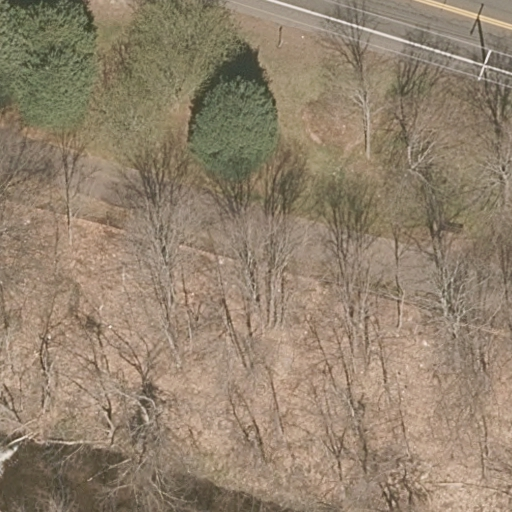DT: (476, 49, 495, 90)
